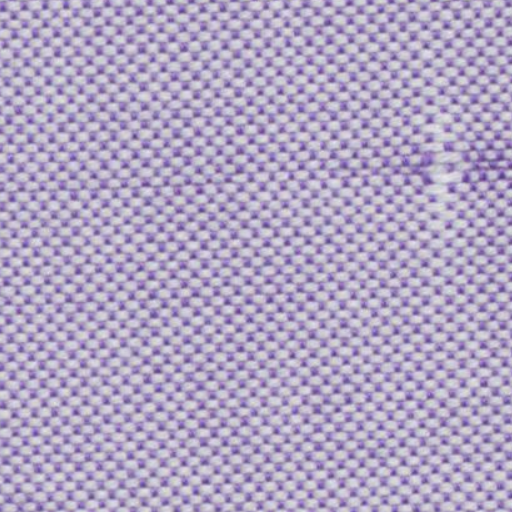DaiSha: (393, 86, 484, 266)
